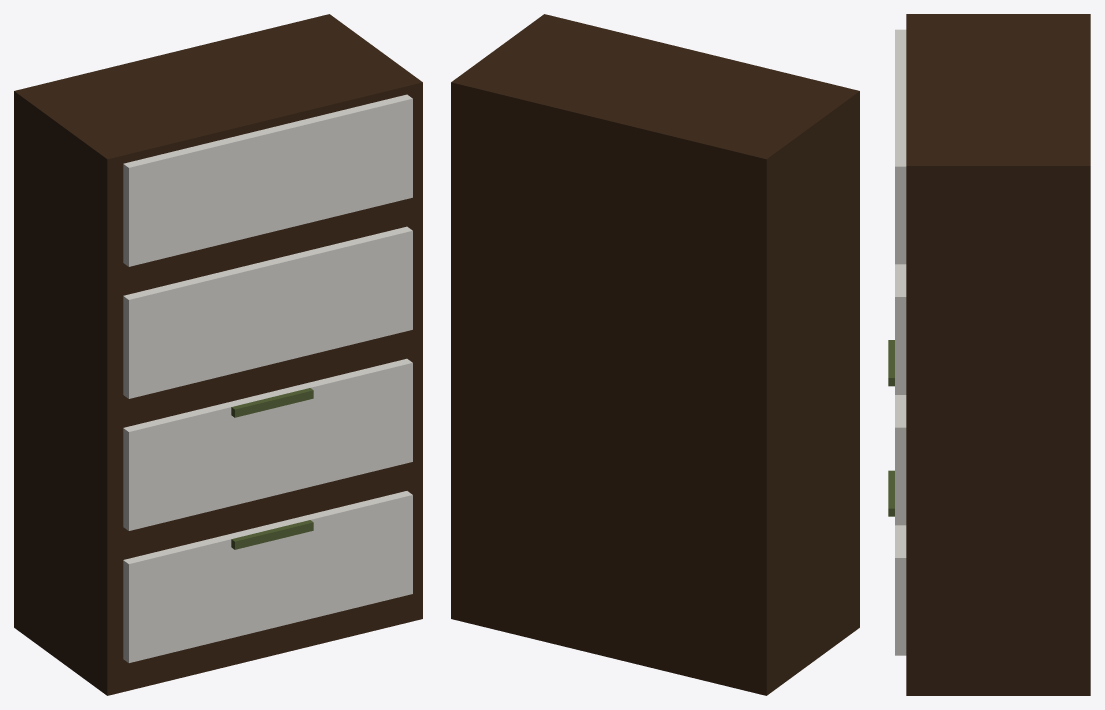
Rendered from filecabinet-lite.glb.
The picture shows the model from 3 angles, left to right: view 1: azimuth 30°, elevation 25°; view 2: azimuth 150°, elevation 25°; view 3: azimuth 270°, elevation 25°; orthographic projection.
Visible parts, largest first — view 1: material-0-body, material-1-drawer, material-2-metal; view 2: material-0-body; view 3: material-0-body, material-1-drawer, material-2-metal.
Part boxes in pixels (<box>): material-0-body: <box>14,14,422,695</box>; material-1-drawer: <box>123,94,412,662</box>; material-2-metal: <box>231,388,313,549</box>; material-0-body: <box>451,14,859,695</box>; material-0-body: <box>906,14,1090,695</box>; material-1-drawer: <box>895,29,906,655</box>; material-2-metal: <box>888,340,894,516</box>.
Size of the model in its own units: 0.8 by 1.3 by 0.45.
